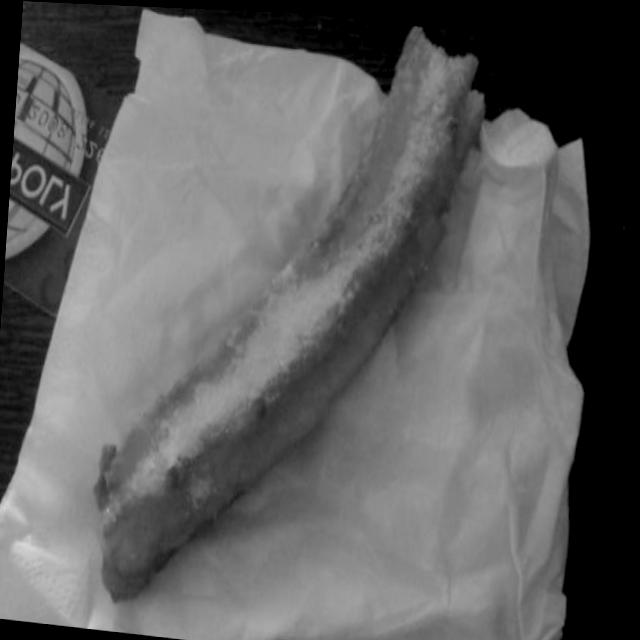炸货点心: (26, 1, 584, 640)
